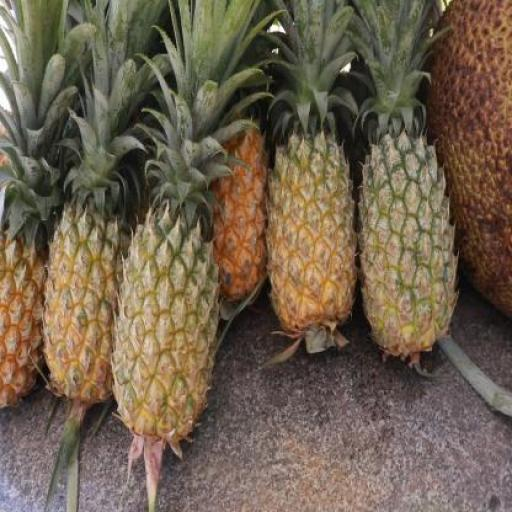------------------------------: (116, 214, 221, 438)
Pineapple - v8 v1: (42, 220, 135, 418), (266, 140, 354, 335), (0, 228, 49, 423)
